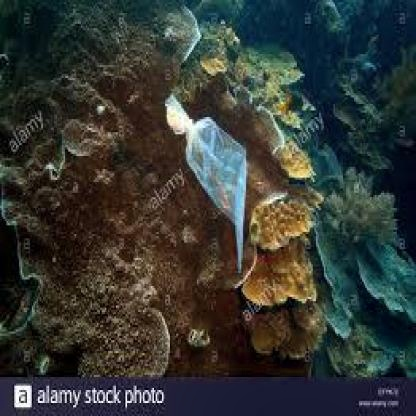pbag: (164, 93, 246, 273)
